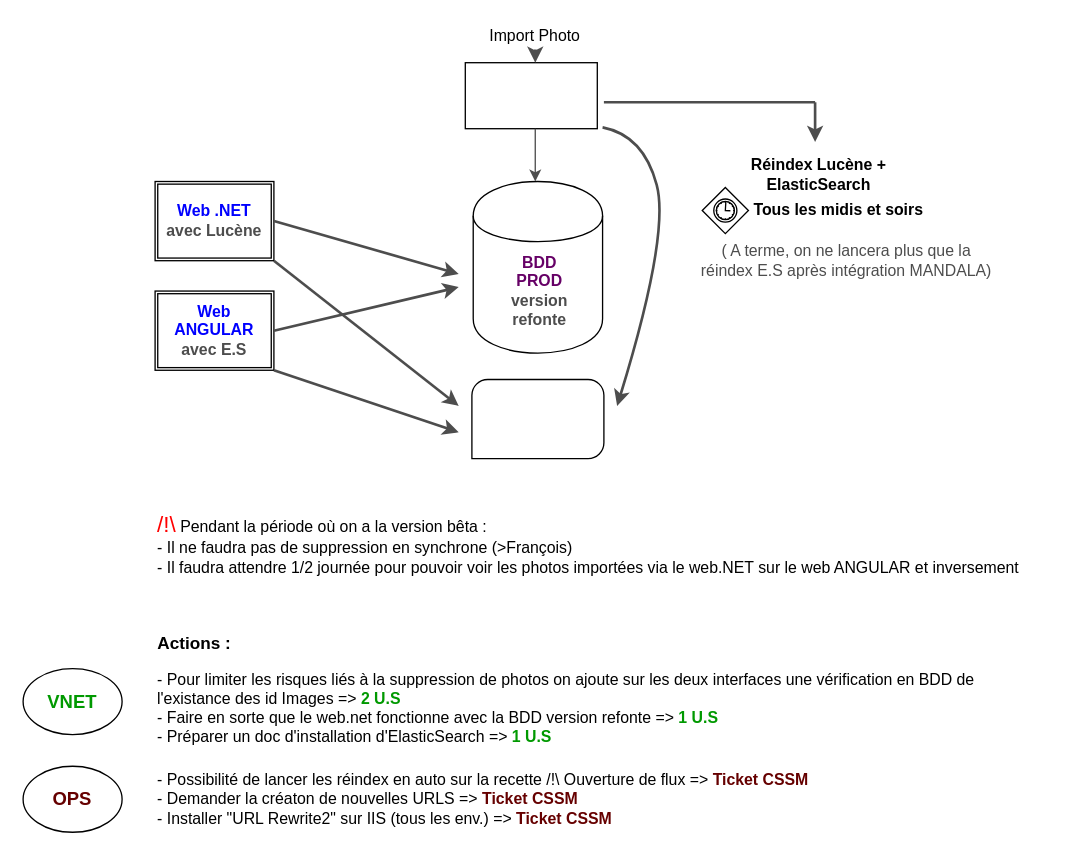
The diagram is 1089 pixels wide and 861 high, and some of its shapes have lost their labels. The shapes that lost their labels are listed below. From the top down, each one's box as (x1, y1, x2, y2) in pixels, then its label:
(464, 61, 597, 129): BATCHS version refonte
(471, 378, 604, 459): SHARE PROD
